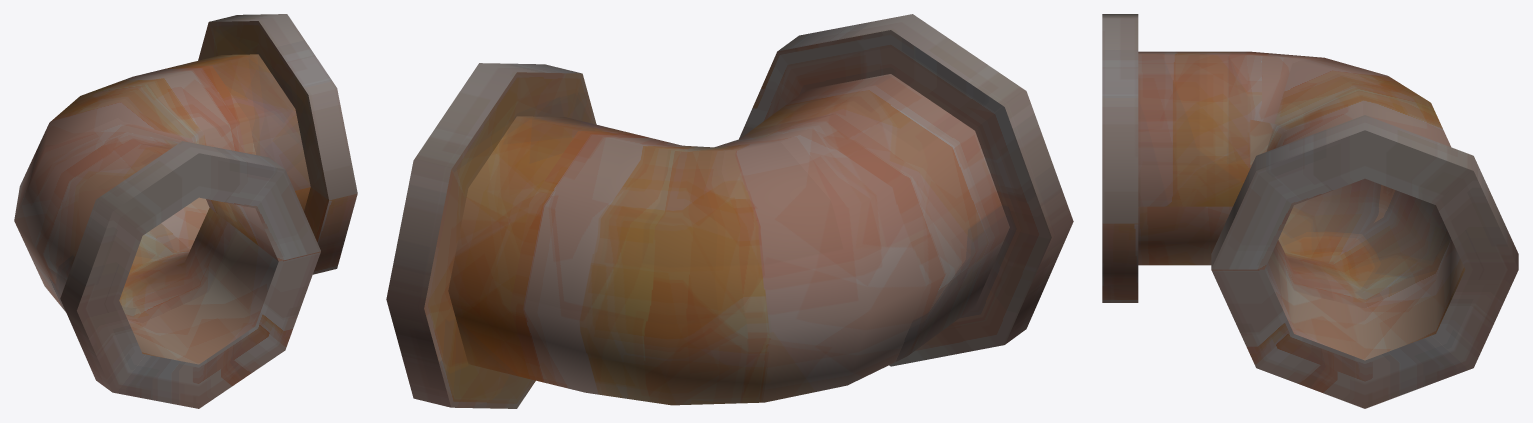
The model's file is Pipe_Corner.fbx.
3 views of the same model, side by side, from view 1: azimuth 30°, elevation 25°; view 2: azimuth 150°, elevation 25°; view 3: azimuth 270°, elevation 25° (orthographic). The views are drawn at different scales.
Visible parts, largest first — view 1: Pipe_Corner; view 2: Pipe_Corner; view 3: Pipe_Corner.
Part boxes in pixels (<box>): Pipe_Corner: <box>14,14,357,408</box>; Pipe_Corner: <box>386,14,1073,408</box>; Pipe_Corner: <box>1102,14,1518,408</box>.
Size of the model in its own units: 151 by 112 by 151.
